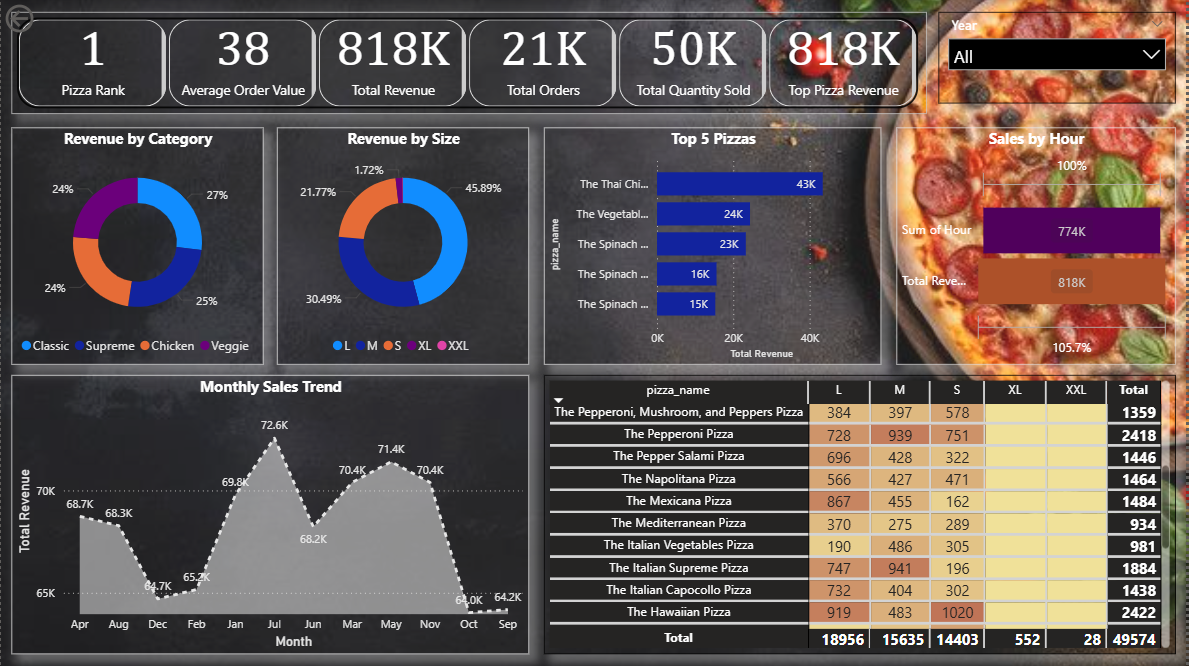

Layout of this report page (visuals, bound fields, positions):
{"tool":"powerbi","page":{"name":"Page 1","canvas":[1280,720],"ordinal":0},"visuals":[{"type":"cardVisual","fields":{"Data":["pizza_sales.Pizza Rank","pizza_sales.Average Order Value","pizza_sales.Total Revenue","pizza_sales.Total Orders","pizza_sales.Total Quantity Sold","pizza_sales.Top Pizza Revenue"]},"box":[11.3,13,987.7,110.1],"z":0},{"type":"actionButton","box":[0,0,100,40],"z":1000},{"type":"donutChart","title":"Revenue by Category","fields":{"Category":["pizza_sales.pizza_category"],"Y":["pizza_sales.Total Revenue"]},"box":[11.3,137.6,272,255.8],"z":2000},{"type":"pieChart","title":"Revenue by Size","fields":{"Category":["pizza_sales.pizza_size"],"Y":["pizza_sales.Total Revenue"]},"box":[297.9,137.6,272,255.8],"z":3000},{"type":"areaChart","title":"Monthly Sales Trend","fields":{"Category":["pizza_sales.Month"],"Y":["pizza_sales.Total Revenue"]},"box":[11.3,404.8,558.6,301.2],"z":4000},{"type":"clusteredBarChart","title":"Top 5 Pizzas","fields":{"Category":["pizza_sales.pizza_name"],"Y":["pizza_sales.Total Revenue"]},"box":[586.2,137.6,364.3,255.8],"z":5000},{"type":"funnel","title":"Sales by Hour","fields":{"Y":["Sum(pizza_sales.Hour)","pizza_sales.Total Revenue"]},"box":[966.7,137.6,301.2,255.8],"z":6000},{"type":"pivotTable","fields":{"Rows":["pizza_sales.pizza_name"],"Columns":["pizza_sales.pizza_size"],"Values":["Sum(pizza_sales.quantity)"]},"box":[586.2,404.8,681.7,301.2],"z":7000},{"type":"slicer","fields":{"Values":["pizza_sales.Year"]},"box":[1012,13,255.8,98.8],"z":8000}]}

Visuals, with their boxes in screenshot pixels (x1, y1, x2, y2), scaled from the page's 1280x720 canvas onto the 1189x666 screenshot:
cardVisual - pizza_sales.Pizza Rank x pizza_sales.Average Order Value: pyautogui.locateOnScreen(10, 12, 928, 114)
actionButton: pyautogui.locateOnScreen(0, 0, 93, 37)
"Revenue by Category" donutChart: pyautogui.locateOnScreen(10, 127, 263, 364)
"Revenue by Size" pieChart: pyautogui.locateOnScreen(277, 127, 529, 364)
"Monthly Sales Trend" areaChart: pyautogui.locateOnScreen(10, 374, 529, 653)
"Top 5 Pizzas" clusteredBarChart: pyautogui.locateOnScreen(545, 127, 883, 364)
"Sales by Hour" funnel: pyautogui.locateOnScreen(898, 127, 1178, 364)
pivotTable - pizza_sales.pizza_name x pizza_sales.pizza_size: pyautogui.locateOnScreen(545, 374, 1178, 653)
slicer - pizza_sales.Year: pyautogui.locateOnScreen(940, 12, 1178, 103)
